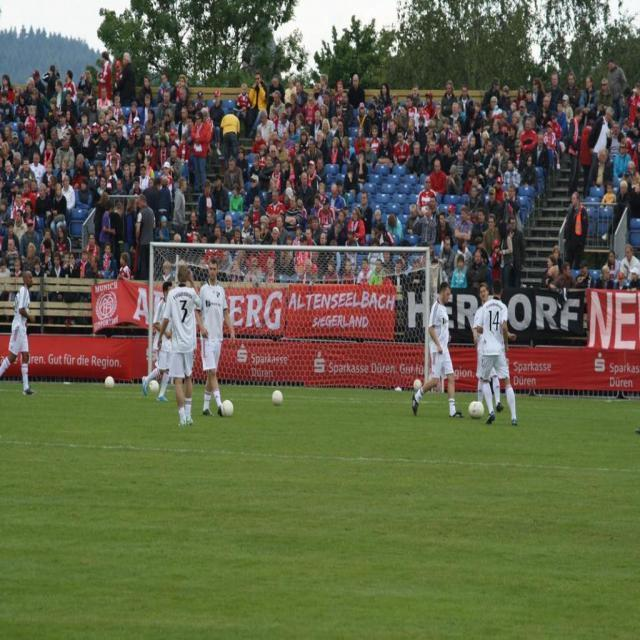ball: (467, 398, 484, 421), (220, 396, 235, 417), (147, 377, 162, 394), (272, 391, 285, 405), (412, 376, 422, 394), (104, 374, 114, 391)
